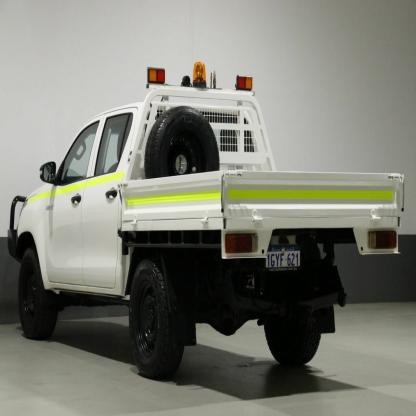light_vehicle: (6, 72, 406, 397)
